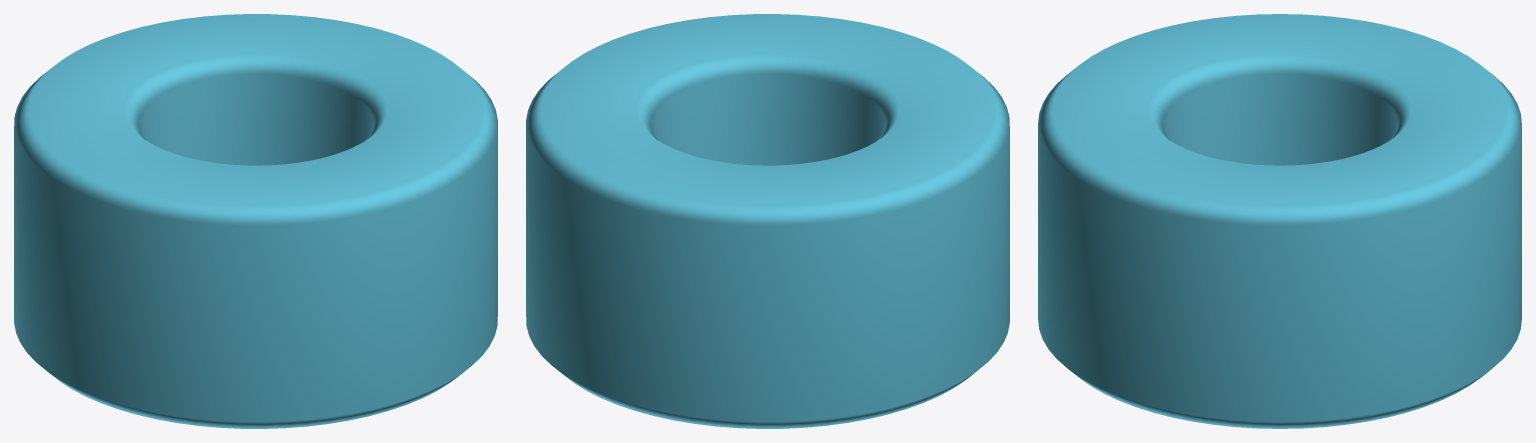
The picture shows the model from 3 angles, left to right: view 1: azimuth 30°, elevation 25°; view 2: azimuth 150°, elevation 25°; view 3: azimuth 270°, elevation 25°; orthographic projection.
Visible parts, largest first — view 1: seal_body; view 2: seal_body; view 3: seal_body.
Part boxes in pixels (bbox=[...]): seal_body: bbox=[14, 14, 497, 428]; seal_body: bbox=[526, 14, 1009, 428]; seal_body: bbox=[1038, 14, 1521, 428].
Bounding box in the file's own units: 0.0118 × 0.006 × 0.0118.
